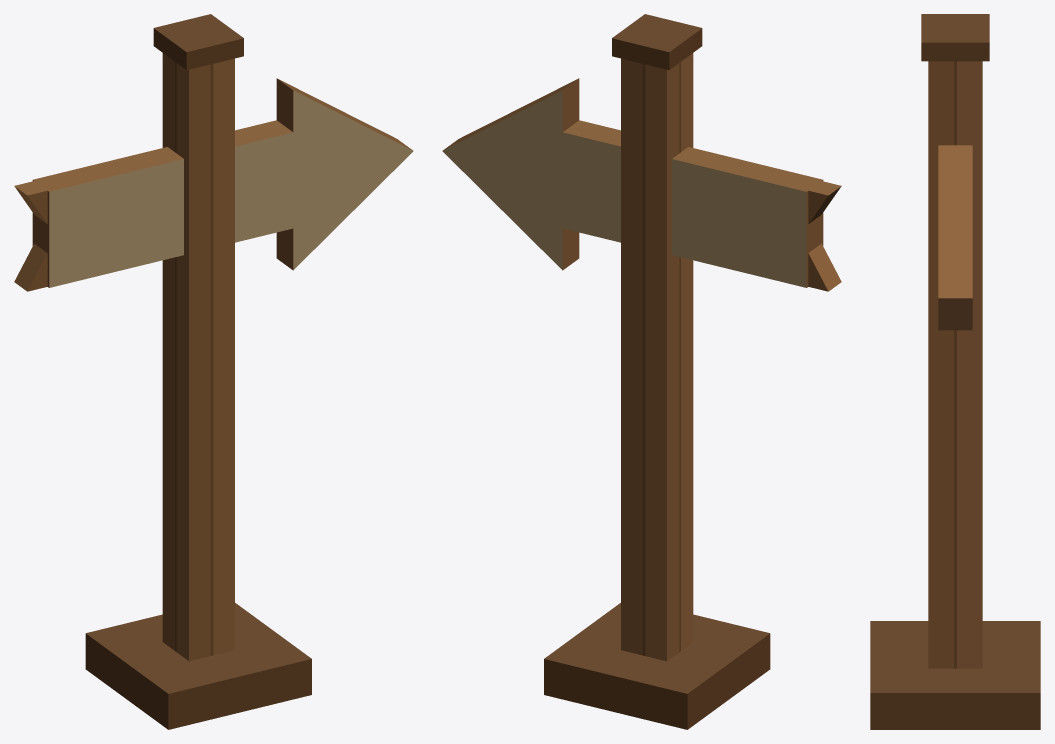
Rendered from sign_arrow.glb.
3 renders of one model, left to right at view 1: azimuth 30°, elevation 25°; view 2: azimuth 150°, elevation 25°; view 3: azimuth 270°, elevation 25°, orthographic. The views are drawn at different scales.
Visible parts, largest first — view 1: sign_arrow; view 2: sign_arrow; view 3: sign_arrow.
Boxes of the visible parts, <box> form: sign_arrow: <box>14,14,413,729</box>; sign_arrow: <box>442,14,841,729</box>; sign_arrow: <box>870,14,1040,729</box>.
Size of the model in its own units: 1.34 by 2.16 by 0.5.
